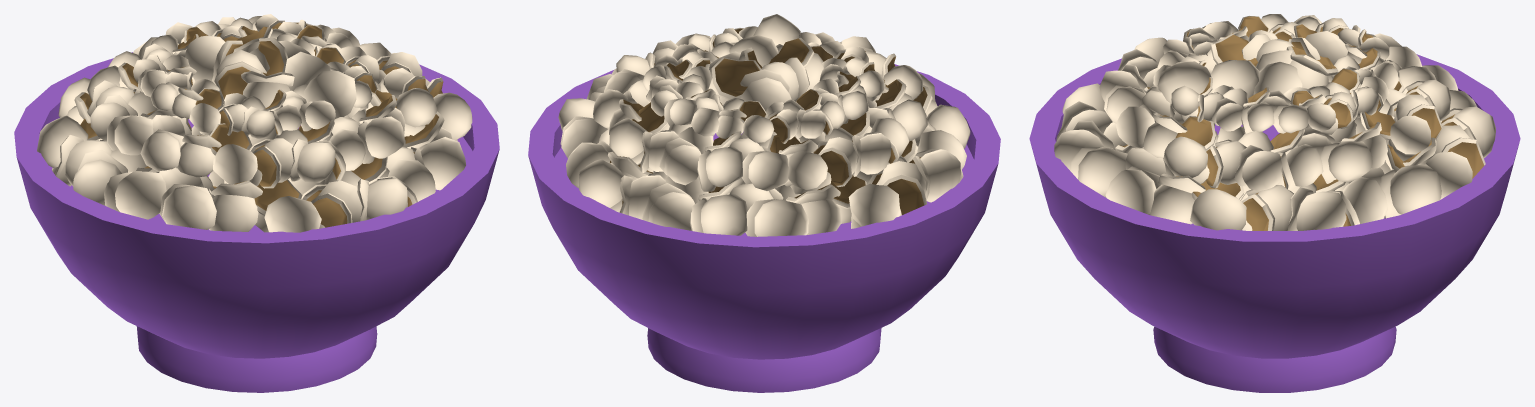
Rendered from popcorn schaal.FBX.
The picture shows the model from 3 angles, left to right: view 1: azimuth 30°, elevation 25°; view 2: azimuth 150°, elevation 25°; view 3: azimuth 270°, elevation 25°; orthographic projection. The views are drawn at different scales.
Visible parts, largest first — view 1: popcorn, schaal; view 2: popcorn, schaal; view 3: popcorn, schaal.
Boxes of the visible parts, box(x1,y1,x2,y2) form: popcorn: box(37, 14, 472, 232); schaal: box(14, 52, 499, 392); popcorn: box(558, 14, 970, 236); schaal: box(528, 64, 1000, 392); popcorn: box(1054, 14, 1495, 230); schaal: box(1029, 54, 1520, 392).
Bounding box in the file's own units: 142 × 96.95 × 143.
2 materials, 2 textured.
